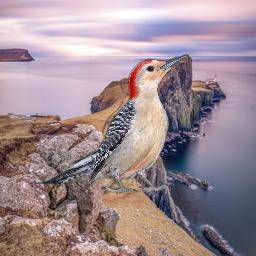Woodpecker: (35, 52, 190, 194)
